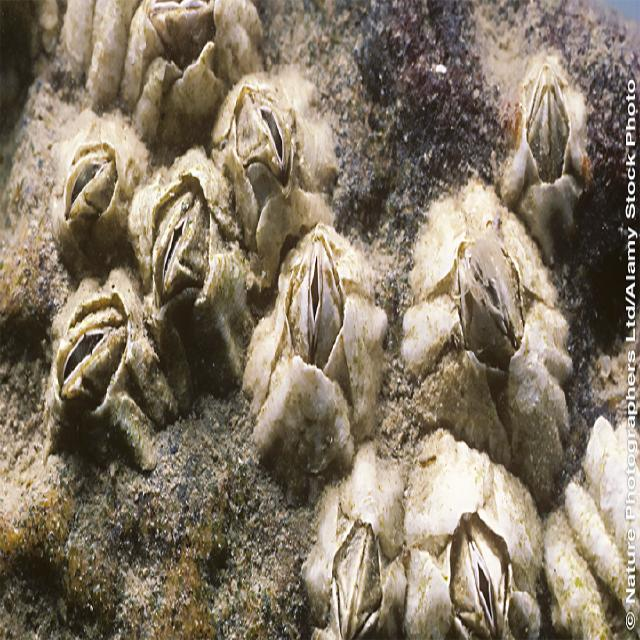barnacles: (410, 175, 575, 501), (247, 230, 388, 491), (128, 140, 248, 401), (409, 436, 550, 637), (39, 272, 170, 472), (215, 67, 342, 240), (298, 449, 407, 638), (504, 48, 594, 270), (52, 114, 145, 274)
